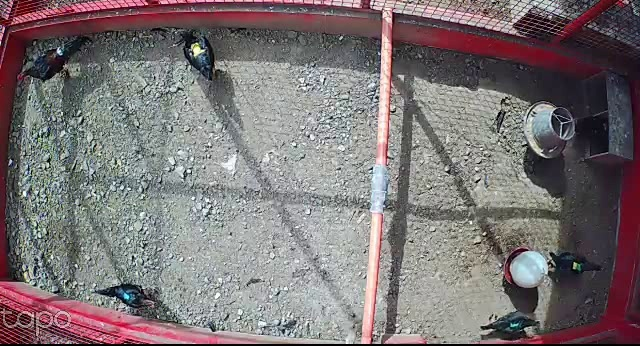Chicken: (173, 27, 223, 87), (93, 280, 160, 311), (546, 248, 605, 278), (479, 310, 541, 338)
Drinker: (503, 248, 549, 289)
Feeder: (523, 101, 576, 158)
Rooster: (17, 31, 92, 88)
Saddle_Color_Blue: (123, 293, 131, 300)
Saddle_Color_Green: (511, 321, 519, 327)
Saddle_Color_Yellow: (191, 41, 203, 58)
Saddle_Color_YellowGreen: (571, 262, 582, 271)
